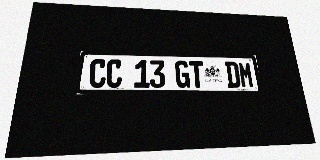1: (134, 60, 150, 88)
3: (150, 60, 165, 88)
C: (88, 59, 107, 88), (106, 59, 123, 88)
D: (224, 61, 241, 88)
G: (175, 60, 190, 88)
M: (238, 62, 255, 88)
T: (189, 61, 205, 88)
